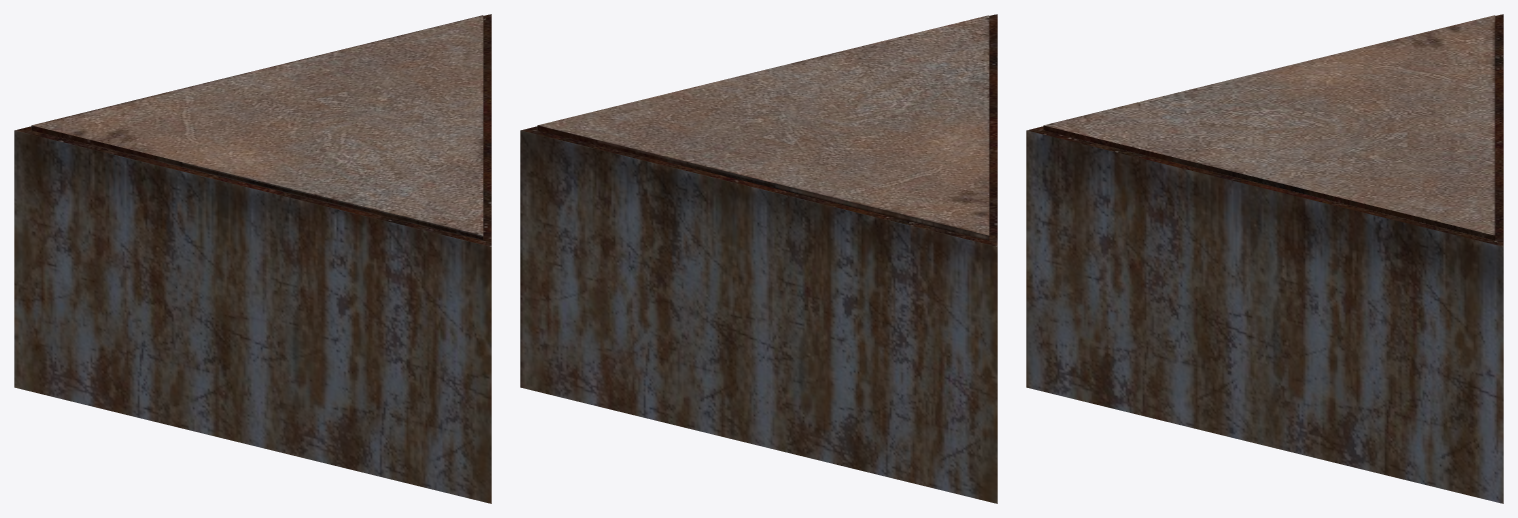
Rendered from metal_foundation_triangle_mid_textured.glb.
The picture shows the model from 3 angles, left to right: view 1: azimuth 30°, elevation 25°; view 2: azimuth 150°, elevation 25°; view 3: azimuth 270°, elevation 25°; orthographic projection.
Visible parts, largest first — view 1: Circle; view 2: Circle; view 3: Circle.
Boxes of the visible parts, x1,y1,x2,y2 form: Circle: [14, 14, 491, 503]; Circle: [520, 14, 997, 503]; Circle: [1026, 14, 1503, 503].
Bounding box in the file's own units: 2 × 1.05 × 1.73.
Materials: 1 (1 with a texture image).
